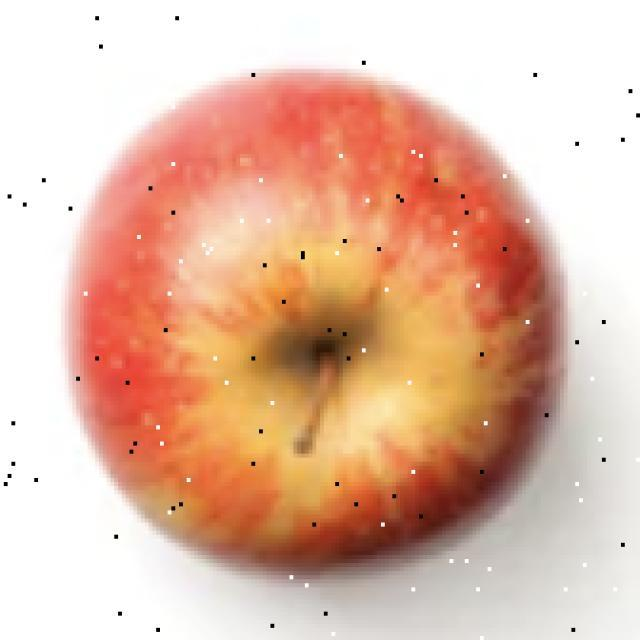Fresh Apple: (56, 62, 574, 578)
